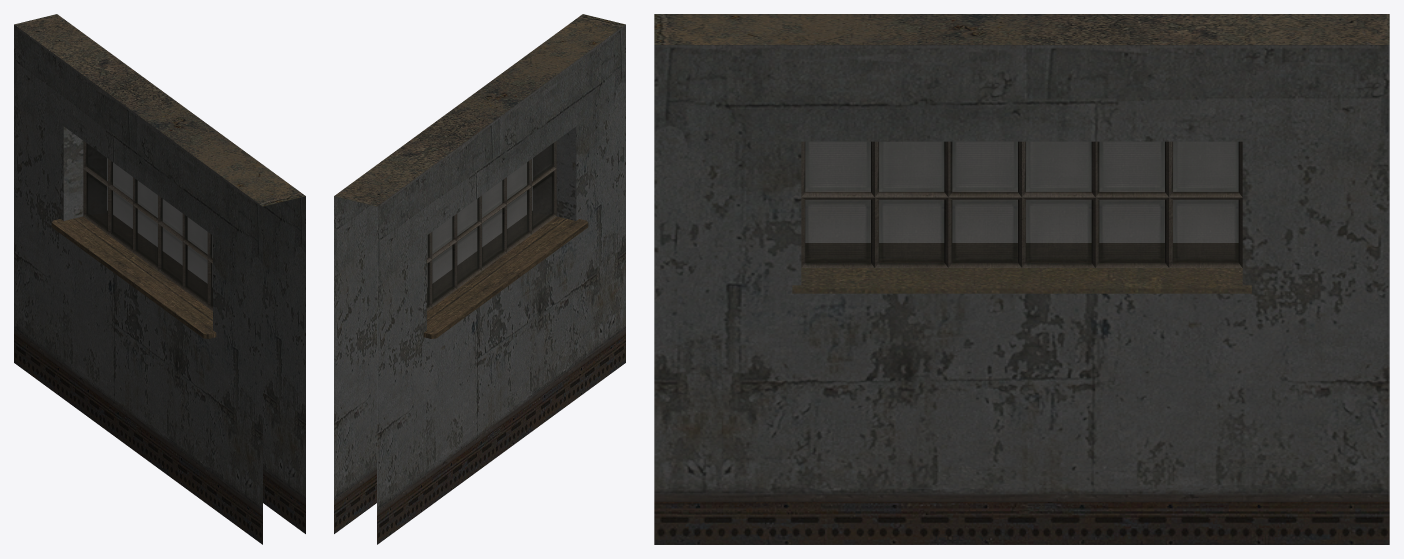
File: window_rtx_1.obj
The picture shows the model from 3 angles, left to right: view 1: azimuth 30°, elevation 25°; view 2: azimuth 150°, elevation 25°; view 3: azimuth 270°, elevation 25°; orthographic projection. The views are drawn at different scales.
Visible parts, largest first — view 1: window_rtx_1; view 2: window_rtx_1; view 3: window_rtx_1.
Part boxes in pixels (<box>): window_rtx_1: <box>14,14,305,544</box>; window_rtx_1: <box>334,14,625,544</box>; window_rtx_1: <box>654,14,1389,544</box>.
Bounding box in the file's own units: 0.545 × 3 × 4.
